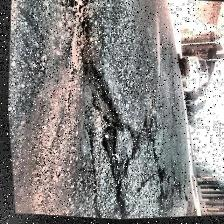pothole: (54, 0, 136, 156)
